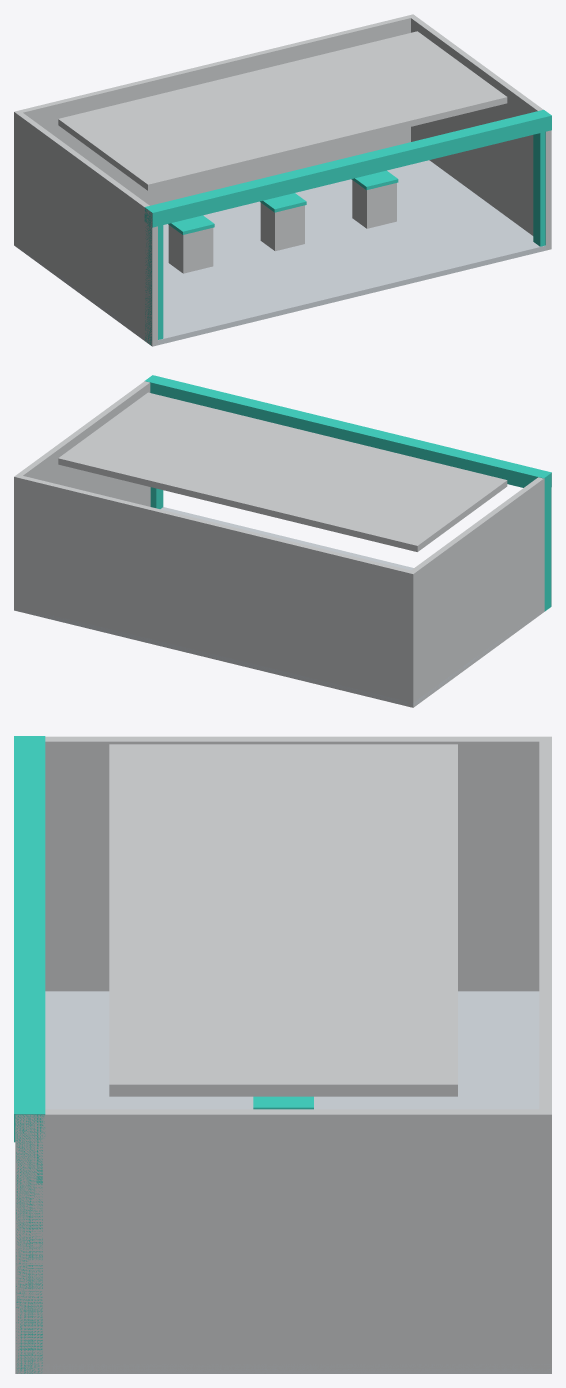
3 renders of one model, top to bottom at view 1: azimuth 30°, elevation 25°; view 2: azimuth 150°, elevation 25°; view 3: azimuth 270°, elevation 25°, orthographic. The views are drawn at different scales.
Parts seen in each view (by area): view 1: Exhibition Booth Concept; view 2: Exhibition Booth Concept; view 3: Exhibition Booth Concept.
Part boxes in pixels (bbox=[...]): Exhibition Booth Concept: bbox=[14, 14, 551, 346]; Exhibition Booth Concept: bbox=[14, 375, 551, 707]; Exhibition Booth Concept: bbox=[14, 736, 551, 1373].
Bounding box in the file's own units: 10 × 3.34 × 6.02.
